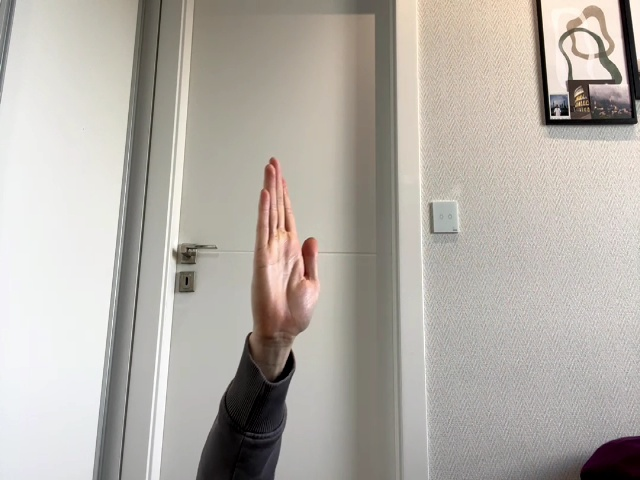SZ: (251, 158, 320, 347)
